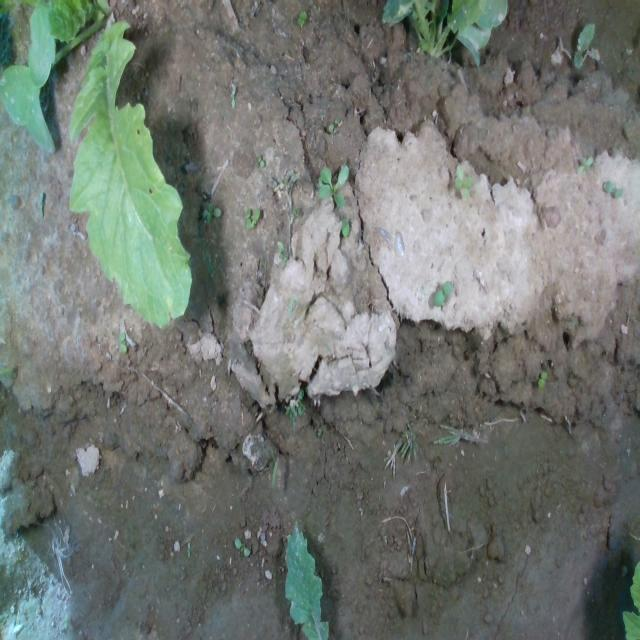weed: (452, 162, 474, 199), (431, 278, 453, 308), (200, 200, 222, 223), (603, 178, 623, 200), (574, 154, 594, 175), (233, 535, 250, 557), (326, 113, 341, 132), (118, 330, 128, 356), (295, 8, 307, 27), (229, 81, 236, 108), (538, 369, 547, 387), (257, 154, 265, 167), (187, 540, 190, 559)
